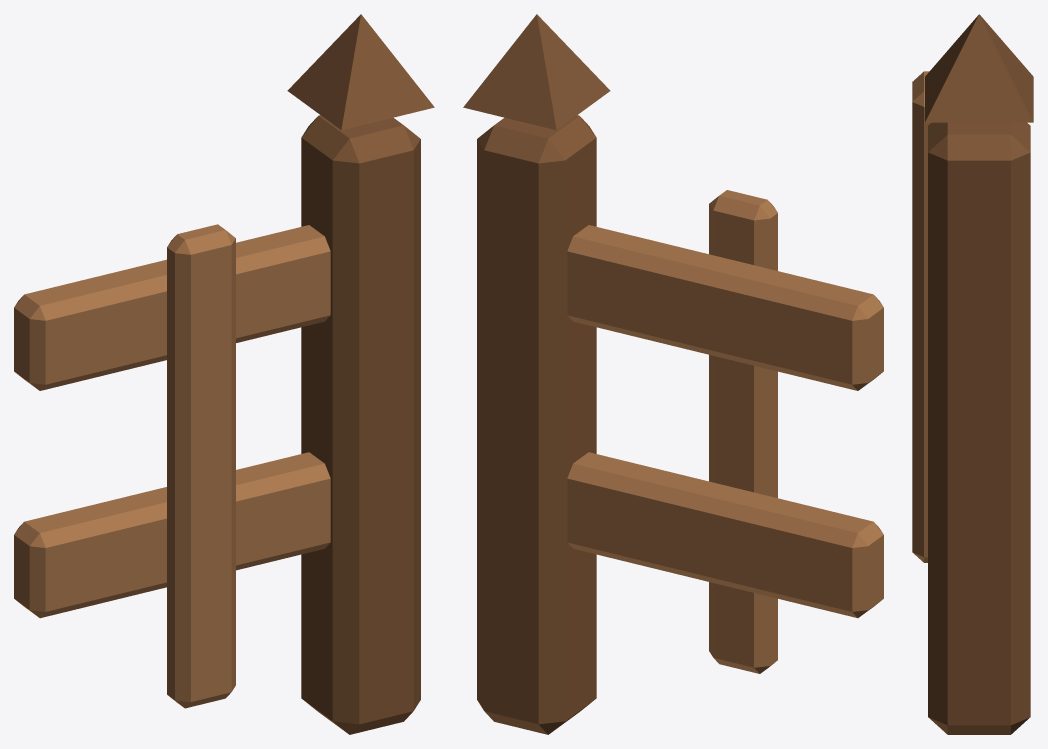
Rendered from fence_end.glb.
3 views of the same model, side by side, from view 1: azimuth 30°, elevation 25°; view 2: azimuth 150°, elevation 25°; view 3: azimuth 270°, elevation 25° (orthographic).
Parts seen in each view (by area): view 1: fence_end; view 2: fence_end; view 3: fence_end.
Boxes of the visible parts, x1,y1,x2,y2 form: fence_end: [14, 14, 434, 734]; fence_end: [463, 14, 883, 734]; fence_end: [912, 14, 1033, 734].
Bounding box in the file's own units: 0.5689 × 0.99 × 0.1539.
